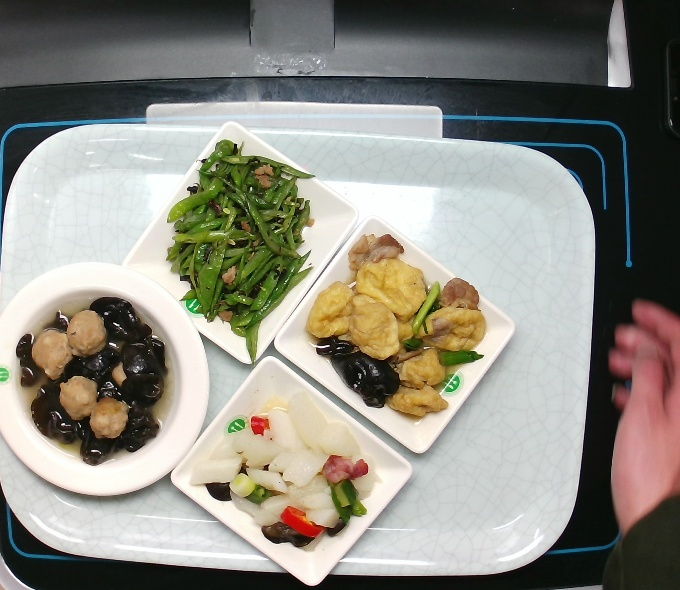wcq-MuErWanZi: (11, 288, 182, 463)
wcq-ShanYao: (182, 383, 374, 545)
wcq-SiJiDouChaoRou: (170, 140, 317, 365)
wcq-YouPaoRouPian: (305, 230, 490, 423)
